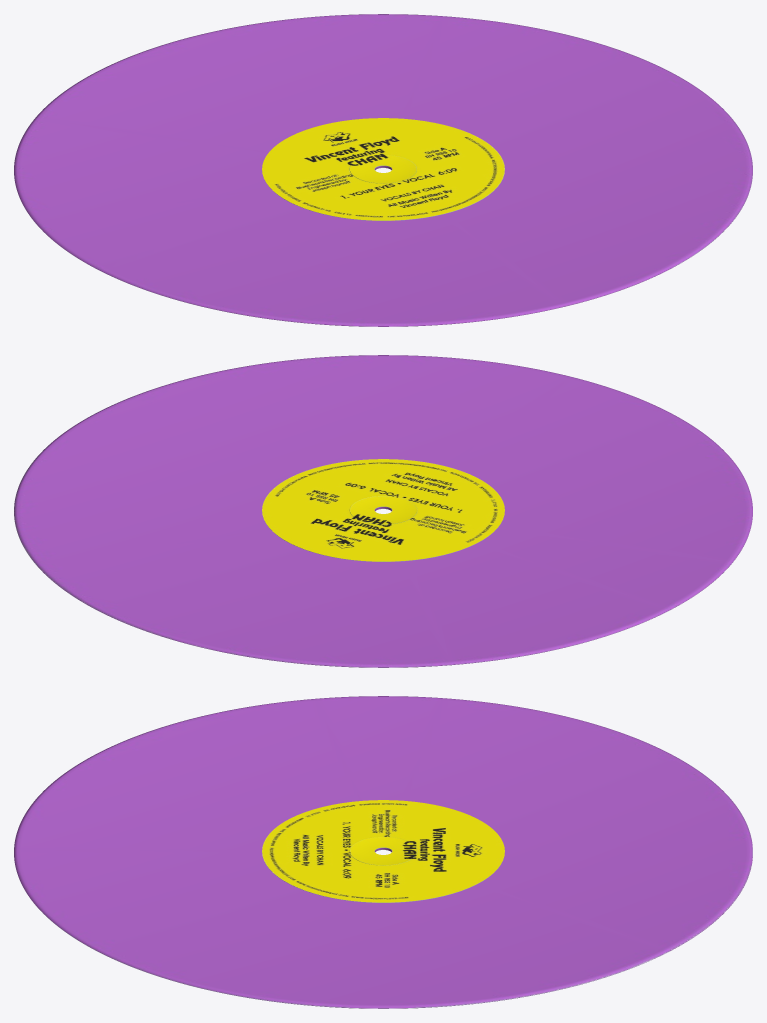
File: vinyl_12_with_label.dae
The picture shows the model from 3 angles, top to bottom: view 1: azimuth 30°, elevation 25°; view 2: azimuth 150°, elevation 25°; view 3: azimuth 270°, elevation 25°; orthographic projection.
Visible parts, largest first — view 1: VINYL_Normal_edge_thick_unify_焼成後確認用, LABEL_normal_hekomi_ari_sideAB_unify_焼成後確認用; view 2: VINYL_Normal_edge_thick_unify_焼成後確認用, LABEL_normal_hekomi_ari_sideAB_unify_焼成後確認用; view 3: VINYL_Normal_edge_thick_unify_焼成後確認用, LABEL_normal_hekomi_ari_sideAB_unify_焼成後確認用.
Part boxes in pixels (x1=…): VINYL_Normal_edge_thick_unify_焼成後確認用: x1=14, y1=14, x2=752, y2=326; LABEL_normal_hekomi_ari_sideAB_unify_焼成後確認用: x1=262, y1=118, x2=504, y2=220; VINYL_Normal_edge_thick_unify_焼成後確認用: x1=14, y1=355, x2=752, y2=667; LABEL_normal_hekomi_ari_sideAB_unify_焼成後確認用: x1=262, y1=459, x2=504, y2=561; VINYL_Normal_edge_thick_unify_焼成後確認用: x1=14, y1=696, x2=752, y2=1008; LABEL_normal_hekomi_ari_sideAB_unify_焼成後確認用: x1=262, y1=800, x2=504, y2=902.
Bounding box in the file's own units: 30.3 × 0.12 × 30.3.
Materials: 2 (2 with a texture image).
